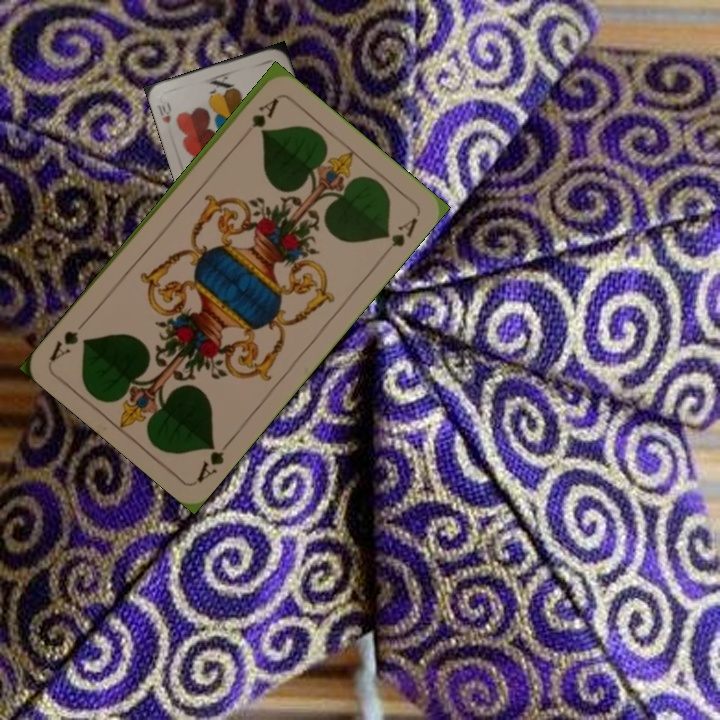GA: (192, 434, 235, 485), (237, 94, 281, 143)
H10: (153, 98, 174, 126)
